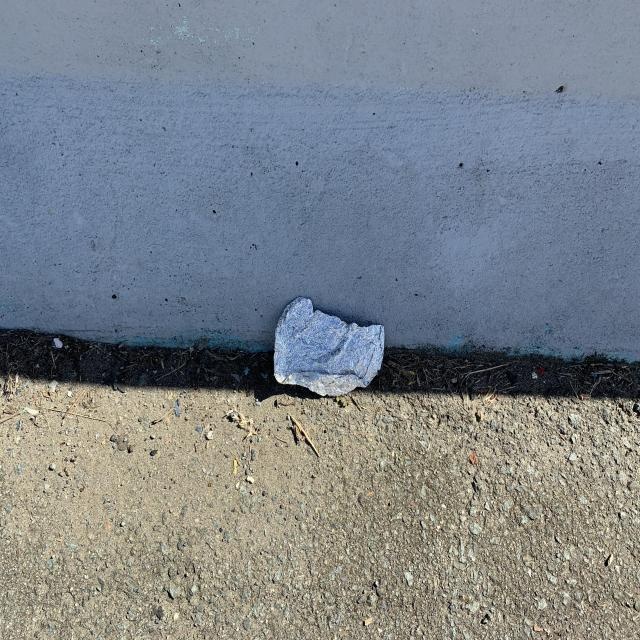litter: (273, 296, 385, 396)
